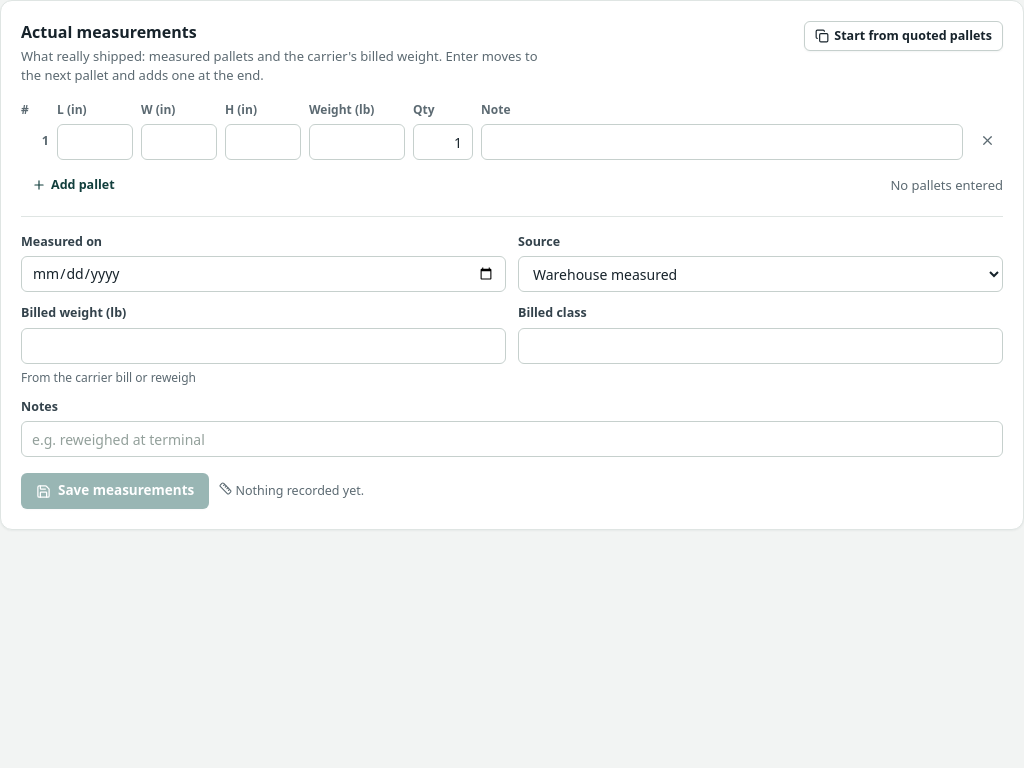
ActualsEditor › blocks saving incomplete or impossible pallets and explains why
The width and height of the screenshot is (1024, 768).
Type "abc" into the field named "Pallet 1 length" at (95, 142), box [57,124,133,160]
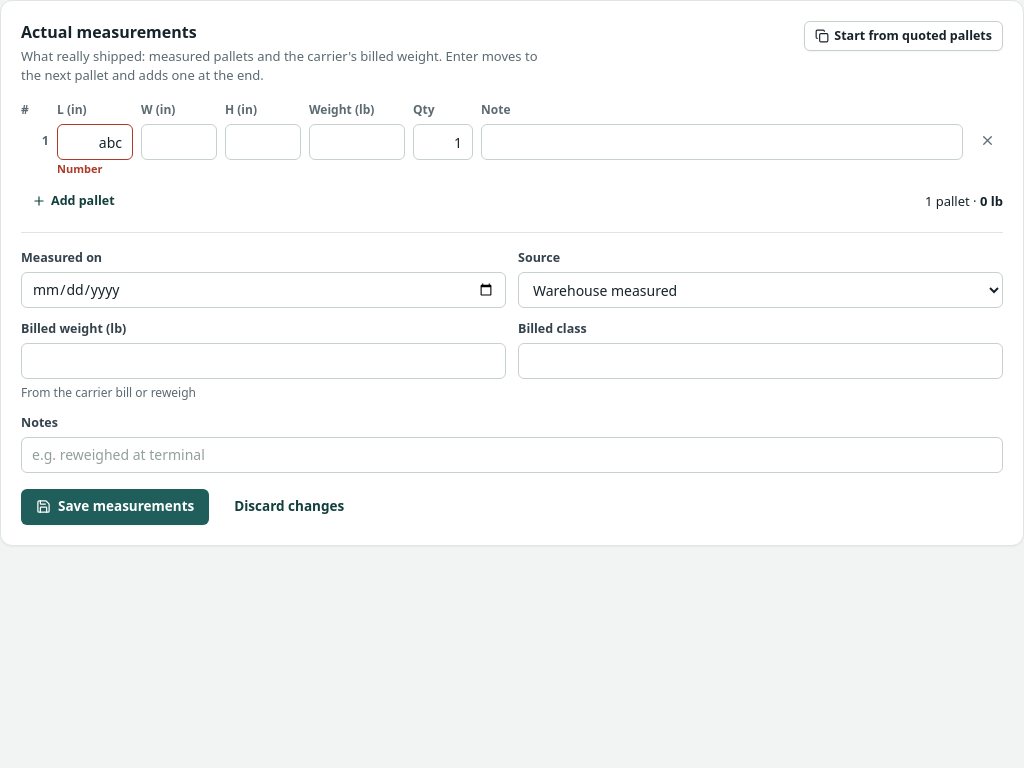
Result: the text "Number" is shown at [57,161,102,176]
Replace the text in the field named "Pallet 1 length" with "48" at (95, 142), box [57,124,133,160]
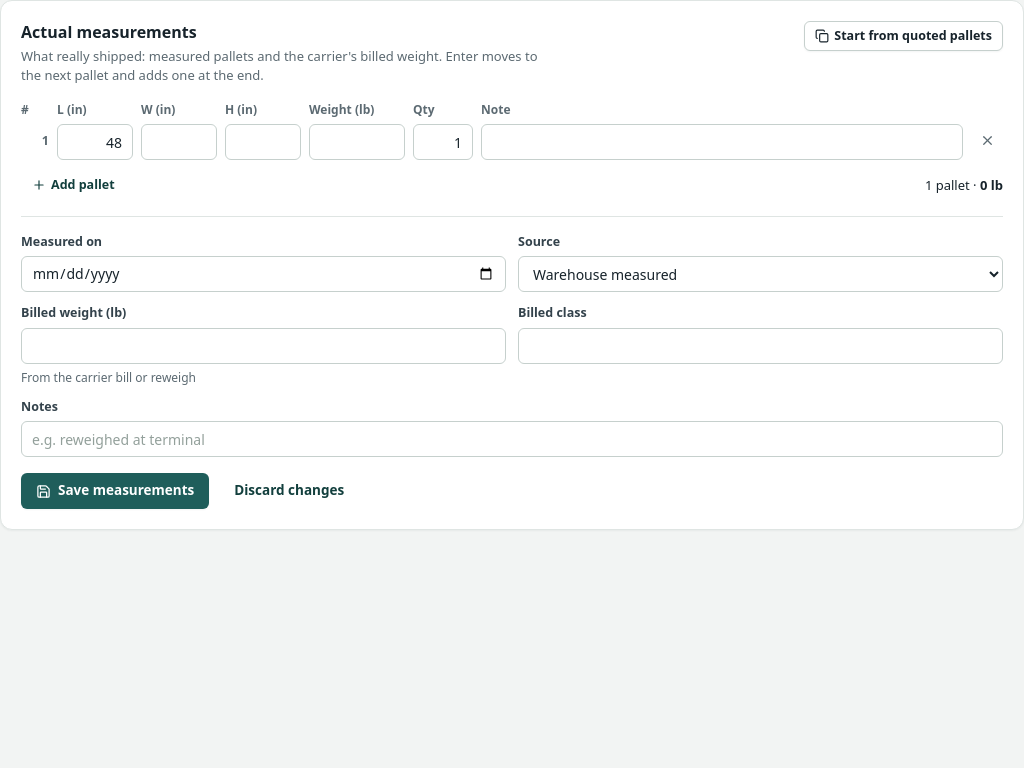
Replace the text in the field named "Pallet 1 quantity" with "1.5" at (443, 142), box [413,124,473,160]
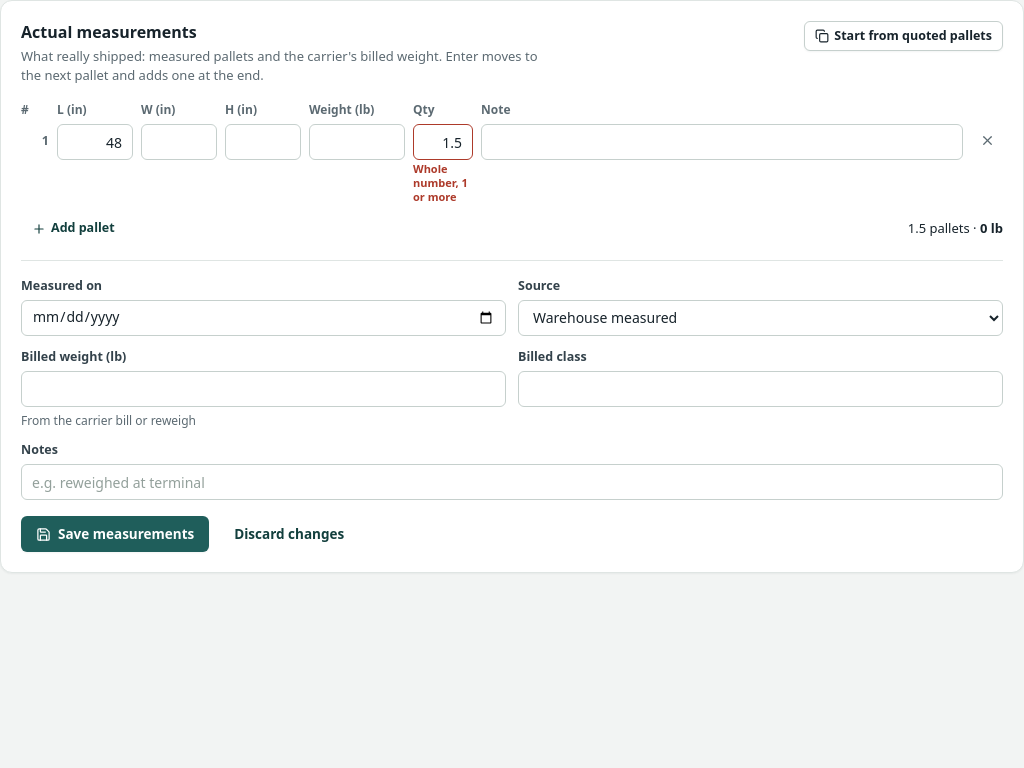
Click the button "Save measurements" at (115, 534), box [21,516,209,552]
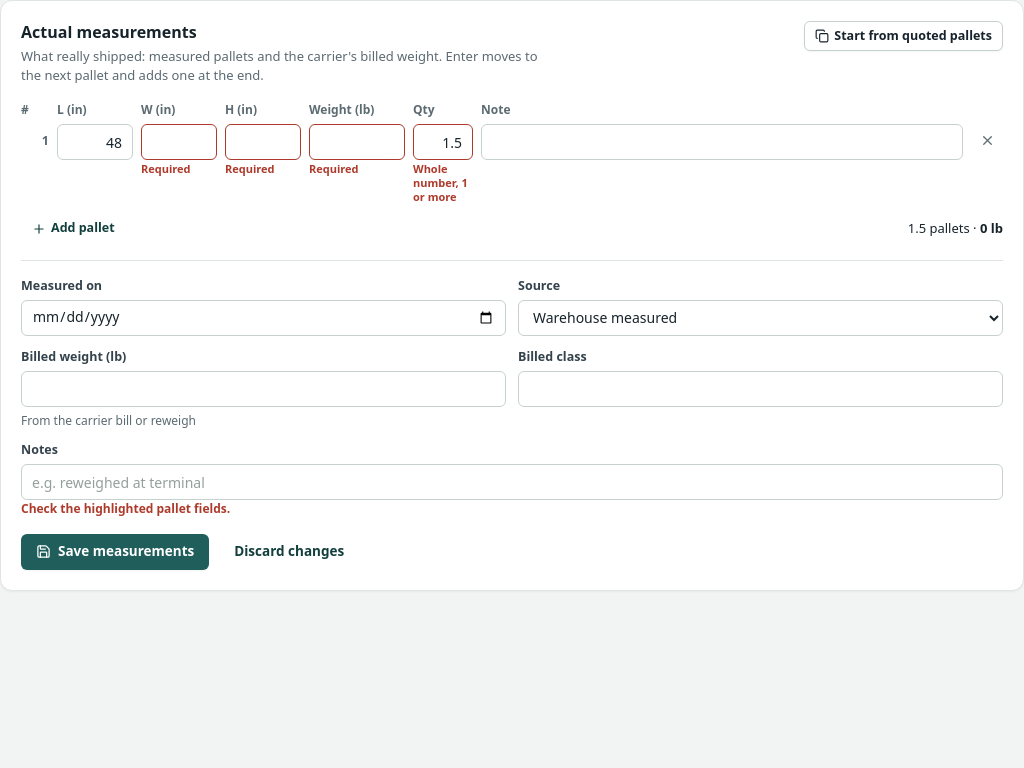
Result: the text "Whole number, 1 or more" is shown at [413,162,473,204]
Result: the text "Check the highlighted pallet fields." is shown at [21,500,230,517]
Result: the text "Required" is shown 3 times at [141,161,190,176]; [225,161,274,176]; [309,161,358,176]
